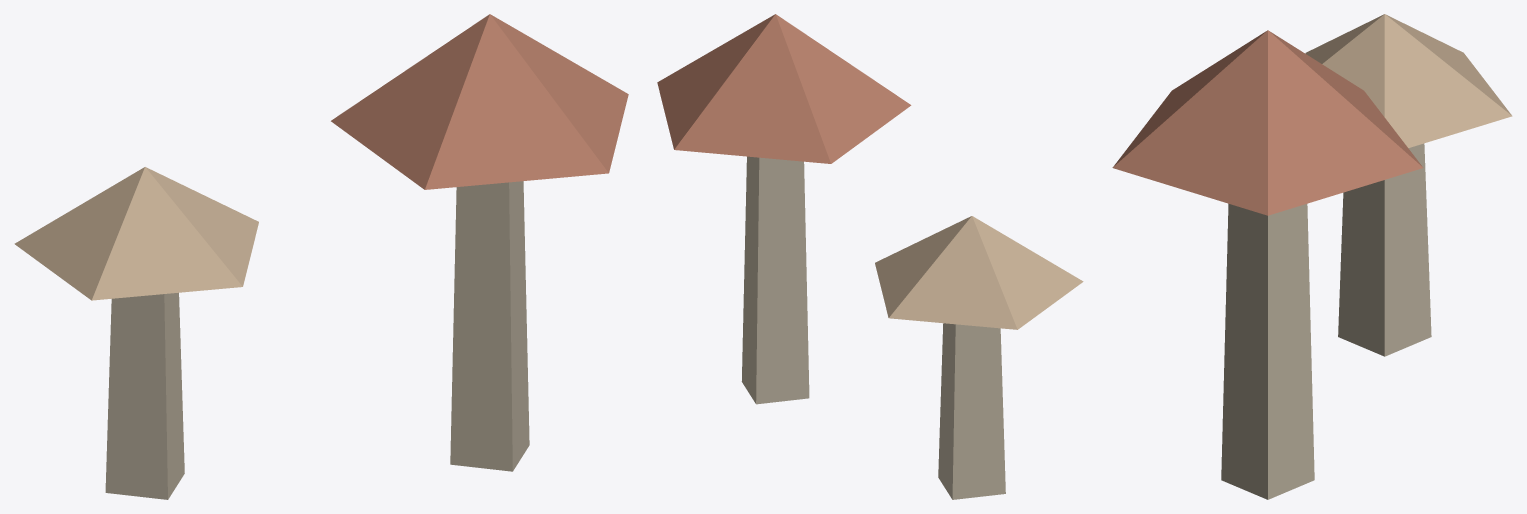
3 views of the same model, side by side, from view 1: azimuth 30°, elevation 25°; view 2: azimuth 150°, elevation 25°; view 3: azimuth 270°, elevation 25° (orthographic). The views are drawn at different scales.
Parts seen in each view (by area): view 1: Body; view 2: Body; view 3: Body.
Part boxes in pixels (x1,y1,x2,y2): Body: (14, 14, 628, 499); Body: (657, 14, 1083, 499); Body: (1112, 14, 1512, 499).
Bounding box in the file's own units: 1.05 × 0.85 × 0.685.
